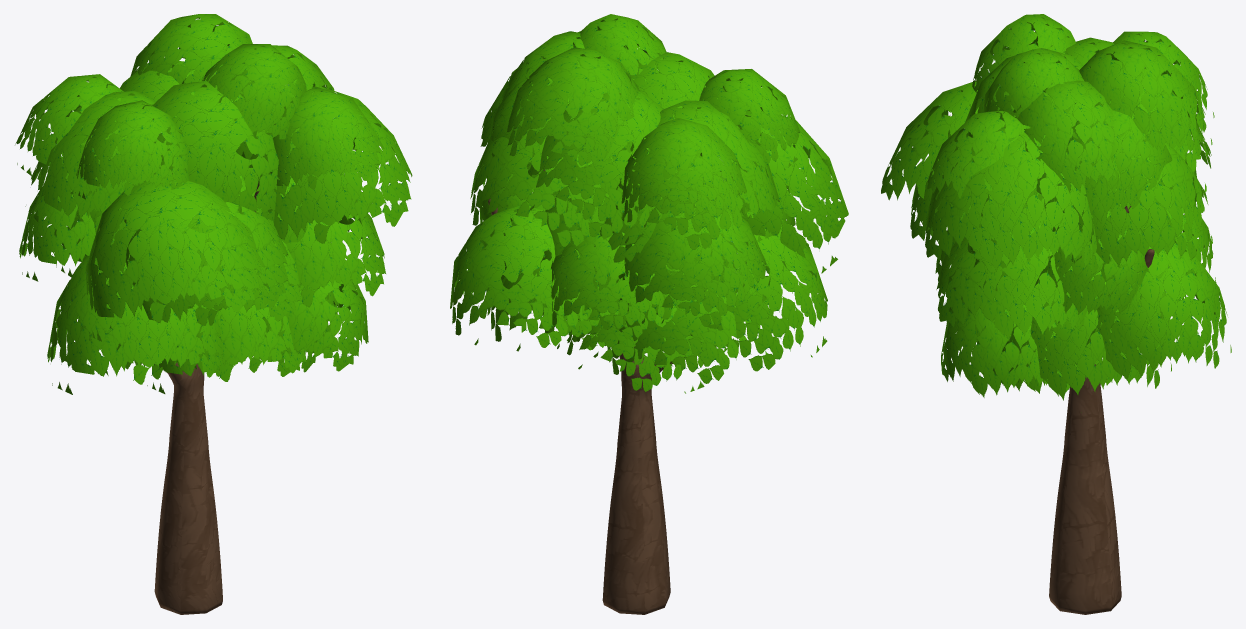
The model's file is TREE 2.fbx.
3 views of the same model, side by side, from view 1: azimuth 30°, elevation 25°; view 2: azimuth 150°, elevation 25°; view 3: azimuth 270°, elevation 25° (orthographic). The views are drawn at different scales.
Visible parts, largest first — view 1: TREE 2; view 2: TREE 2; view 3: TREE 2.
Boxes of the visible parts, <box> form: TREE 2: <box>15,14,412,614</box>; TREE 2: <box>450,14,848,614</box>; TREE 2: <box>881,14,1231,614</box>.
Bounding box in the file's own units: 7.88 × 12.33 × 6.95.
